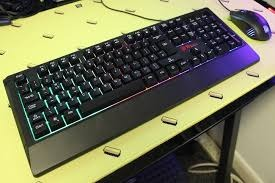keyboard: (6, 7, 258, 183)
mouse: (228, 1, 274, 43)
